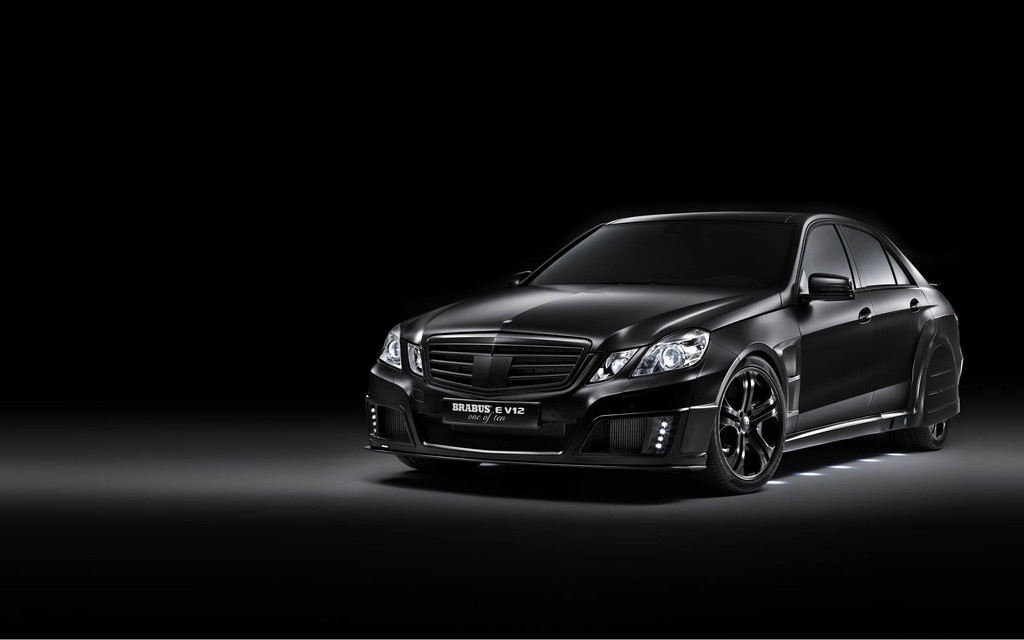Car: (359, 208, 967, 491)
